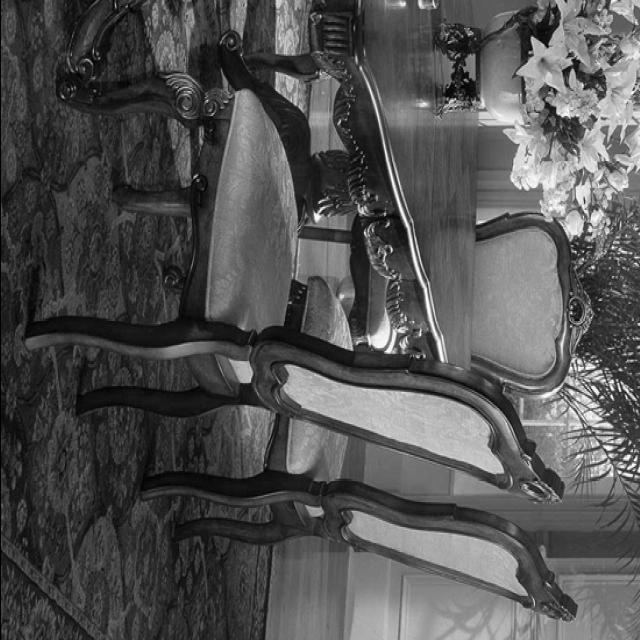chair: (24, 83, 566, 506), (118, 278, 574, 624), (300, 203, 594, 400)
